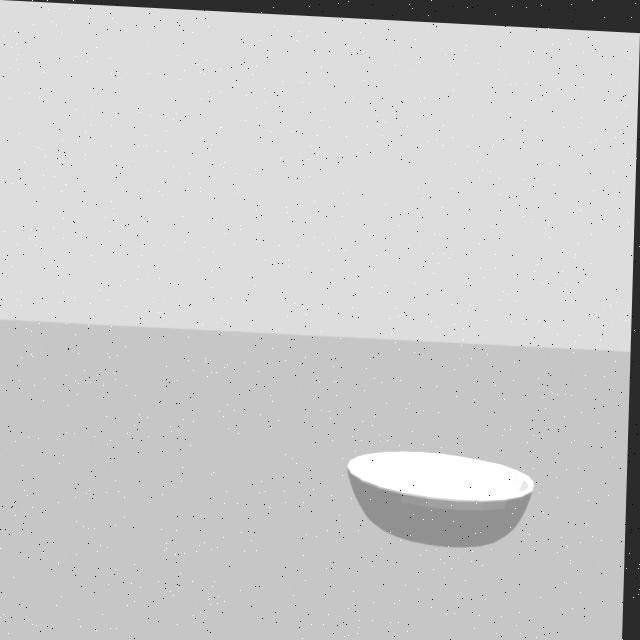bowl: (337, 426, 547, 555)
